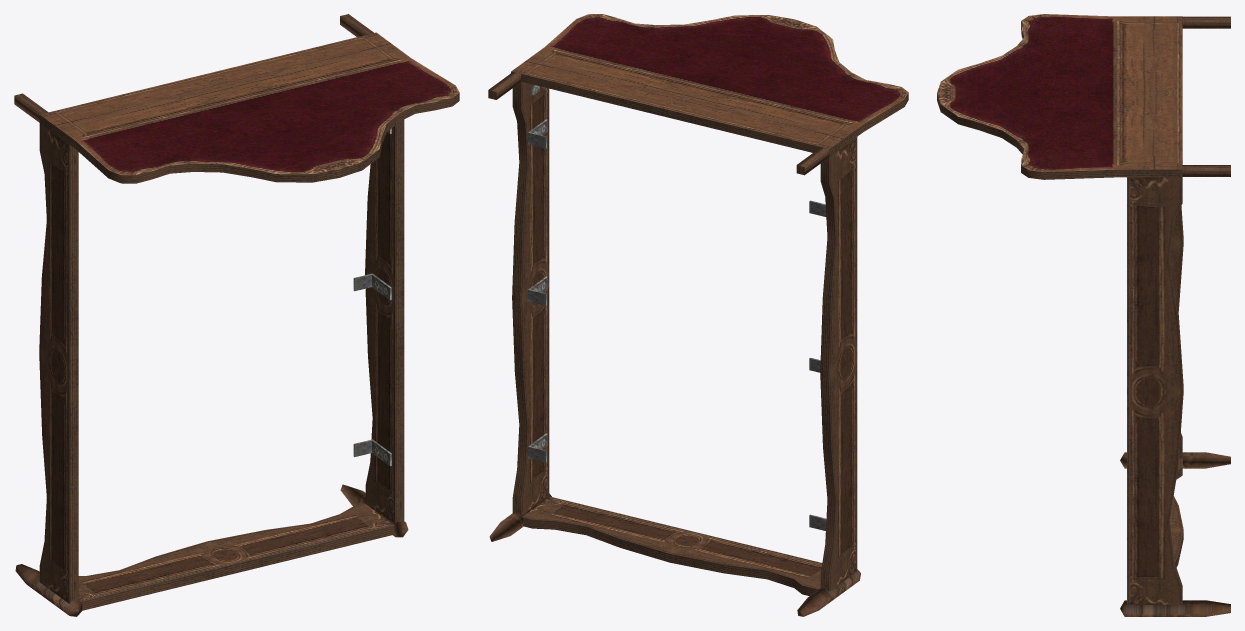
The model's file is furniture_bed.glb.
The picture shows the model from 3 angles, left to right: view 1: azimuth 30°, elevation 25°; view 2: azimuth 150°, elevation 25°; view 3: azimuth 270°, elevation 25°; orthographic projection. The views are drawn at different scales.
Bounding box in the file's own units: 78.68 × 104 × 61.77.
Materials: 1 (1 with a texture image).
